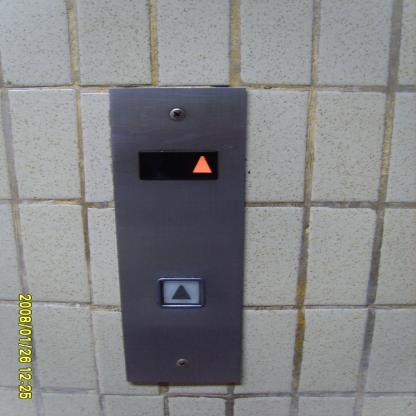led: (136, 148, 220, 182)
up: (153, 274, 206, 310)
